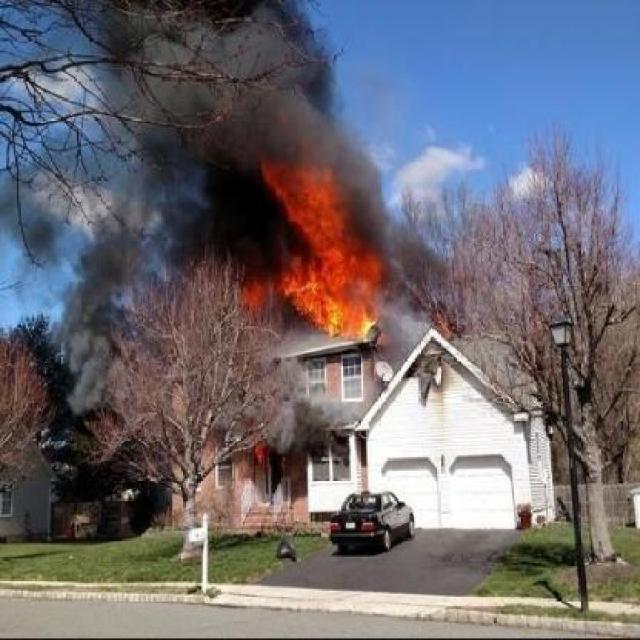Fire: (252, 172, 396, 352)
Smoke: (104, 7, 390, 154), (27, 230, 139, 428)
